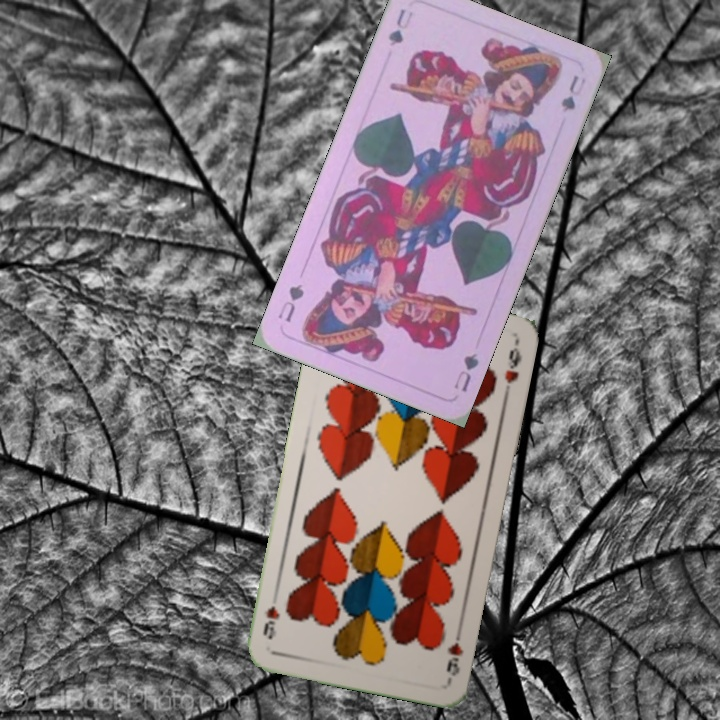GU: (450, 349, 482, 395), (384, 4, 416, 49)
H9: (442, 624, 466, 679)
